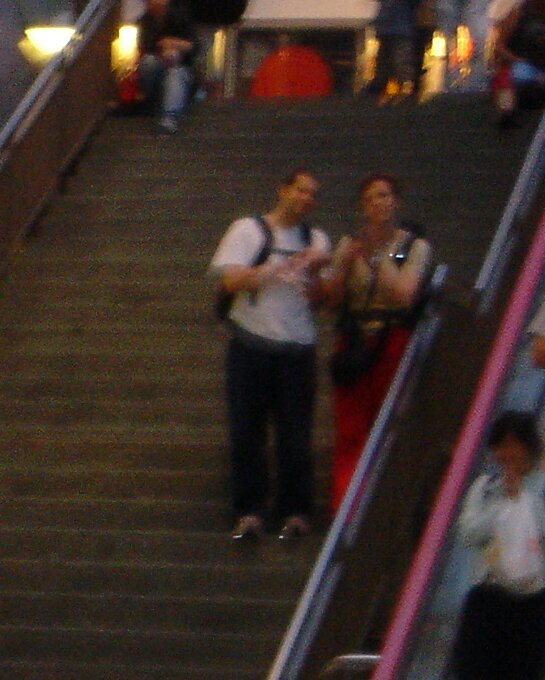person: (322, 169, 434, 529), (212, 171, 320, 533)
